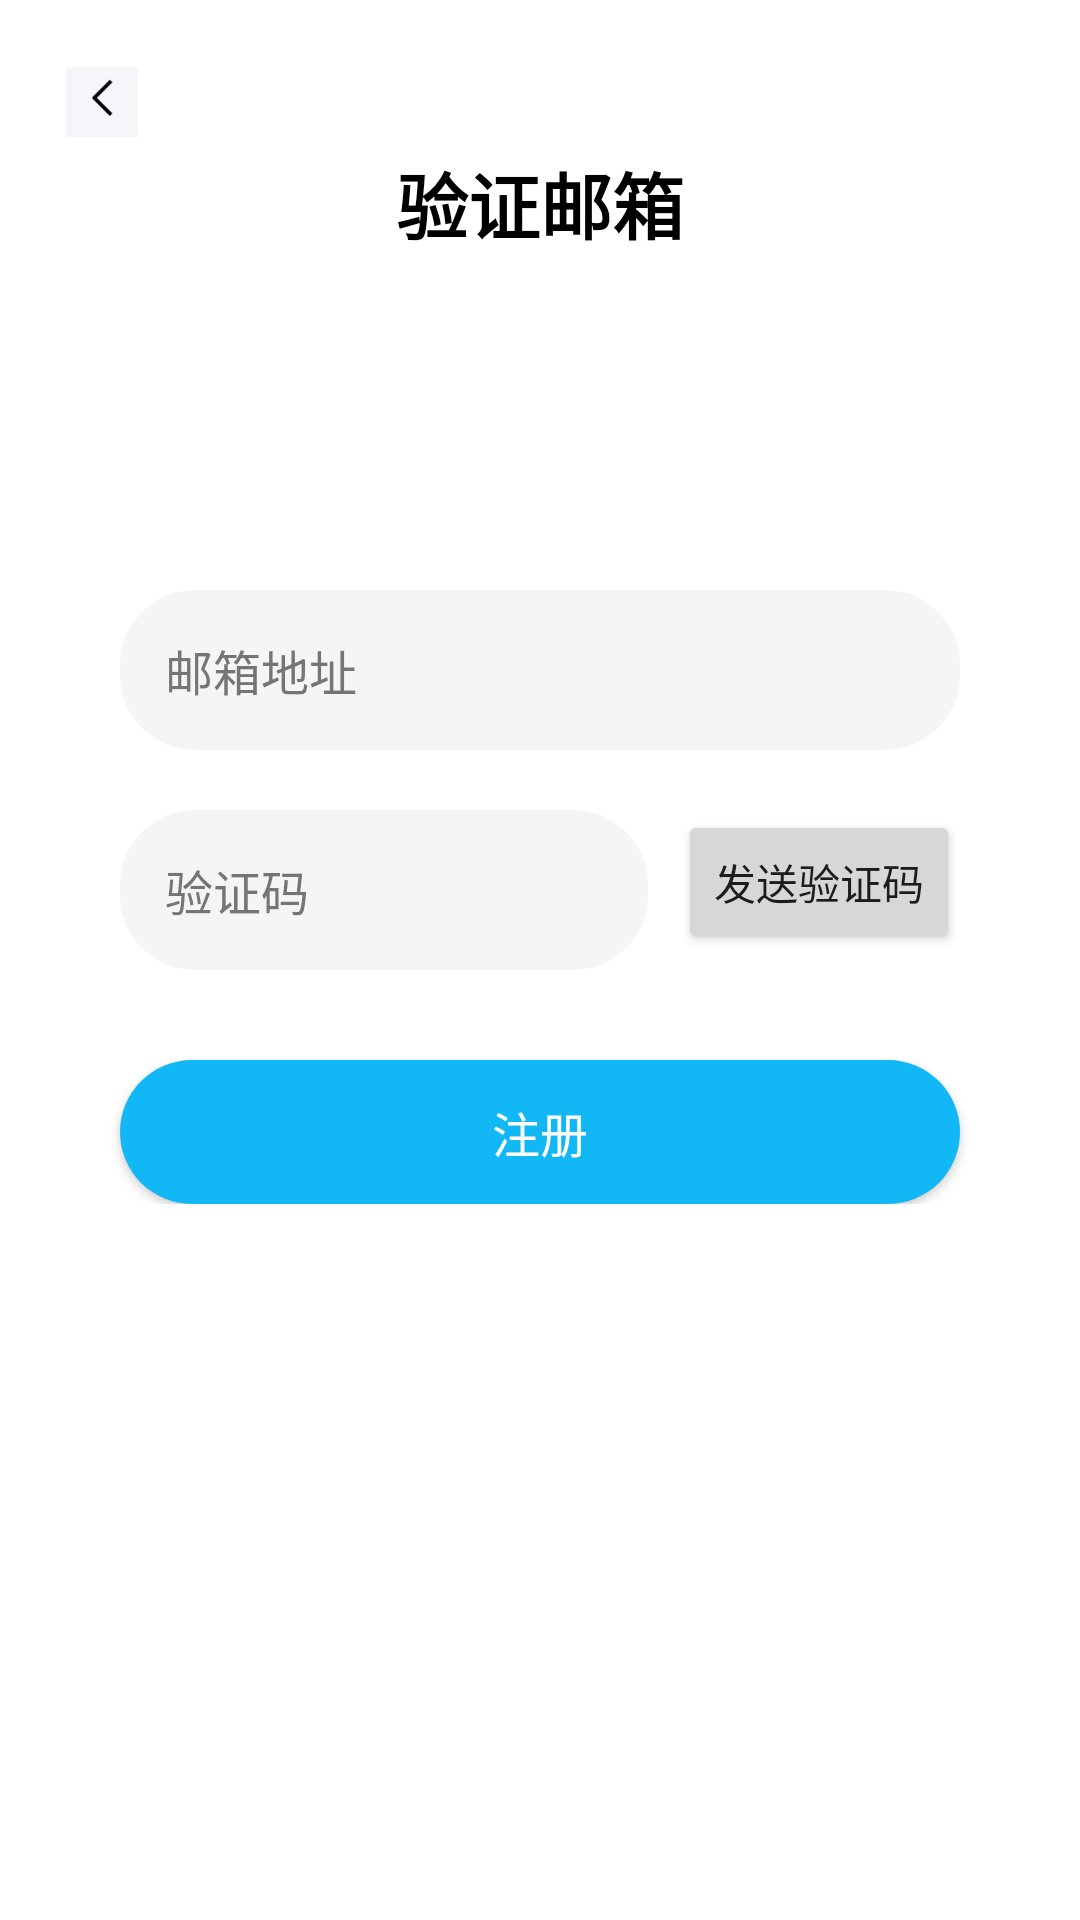

Icon bounding boxes for this 1080px x 1920px phone screenshot, format (x1, y1, x2, y2):
back: (66, 67, 138, 137)
